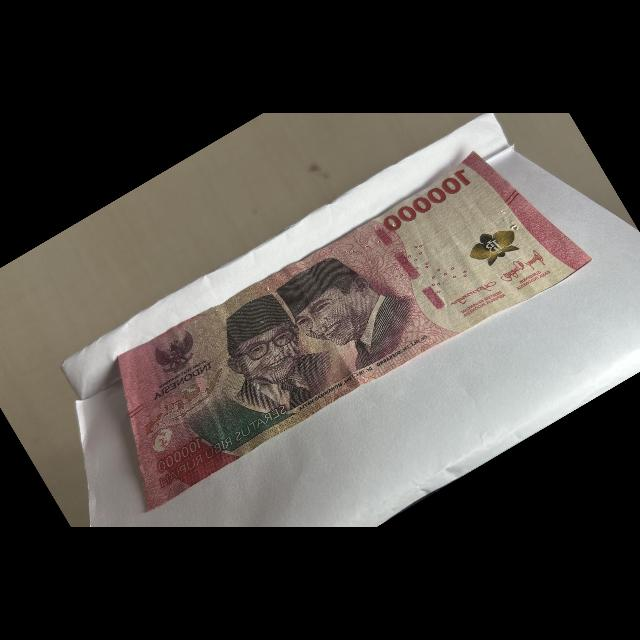Palsu-100k: (68, 122, 599, 517)
Tinta-Palsu-100k: (459, 216, 525, 276)
